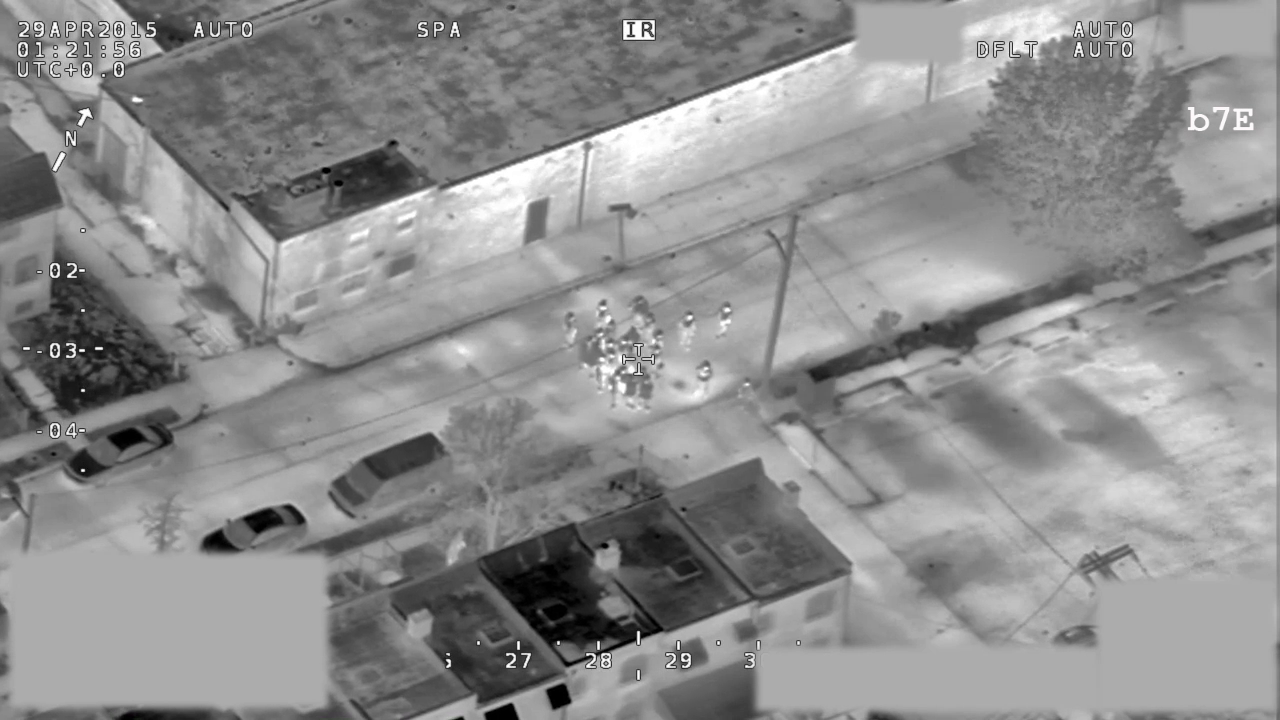vehicle: (325, 430, 454, 520), (59, 419, 180, 497), (200, 501, 310, 553)
